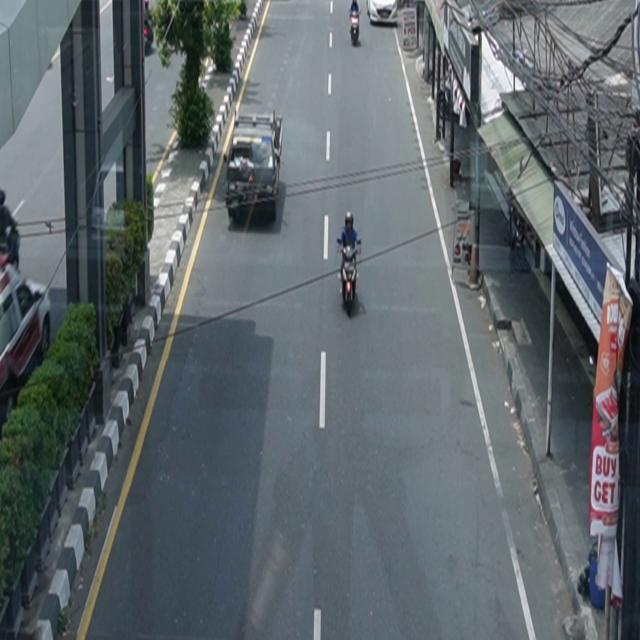car: (367, 1, 398, 26)
truck: (225, 111, 284, 224)
